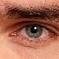eye: (26, 26, 43, 38)
